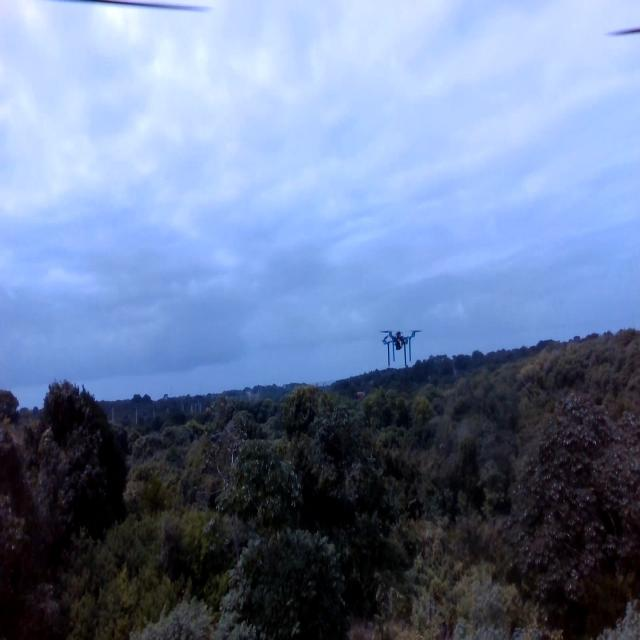-uav-: (375, 318, 426, 374)
